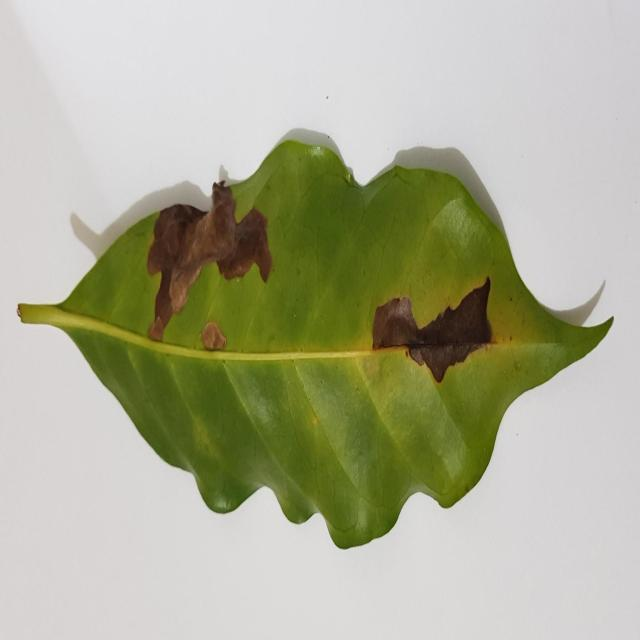Plaga-Minador: (18, 129, 615, 551)
